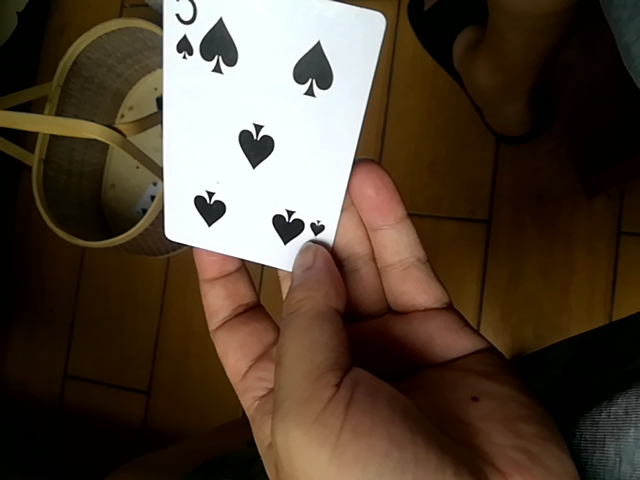ht 5: (150, 0, 380, 282)
